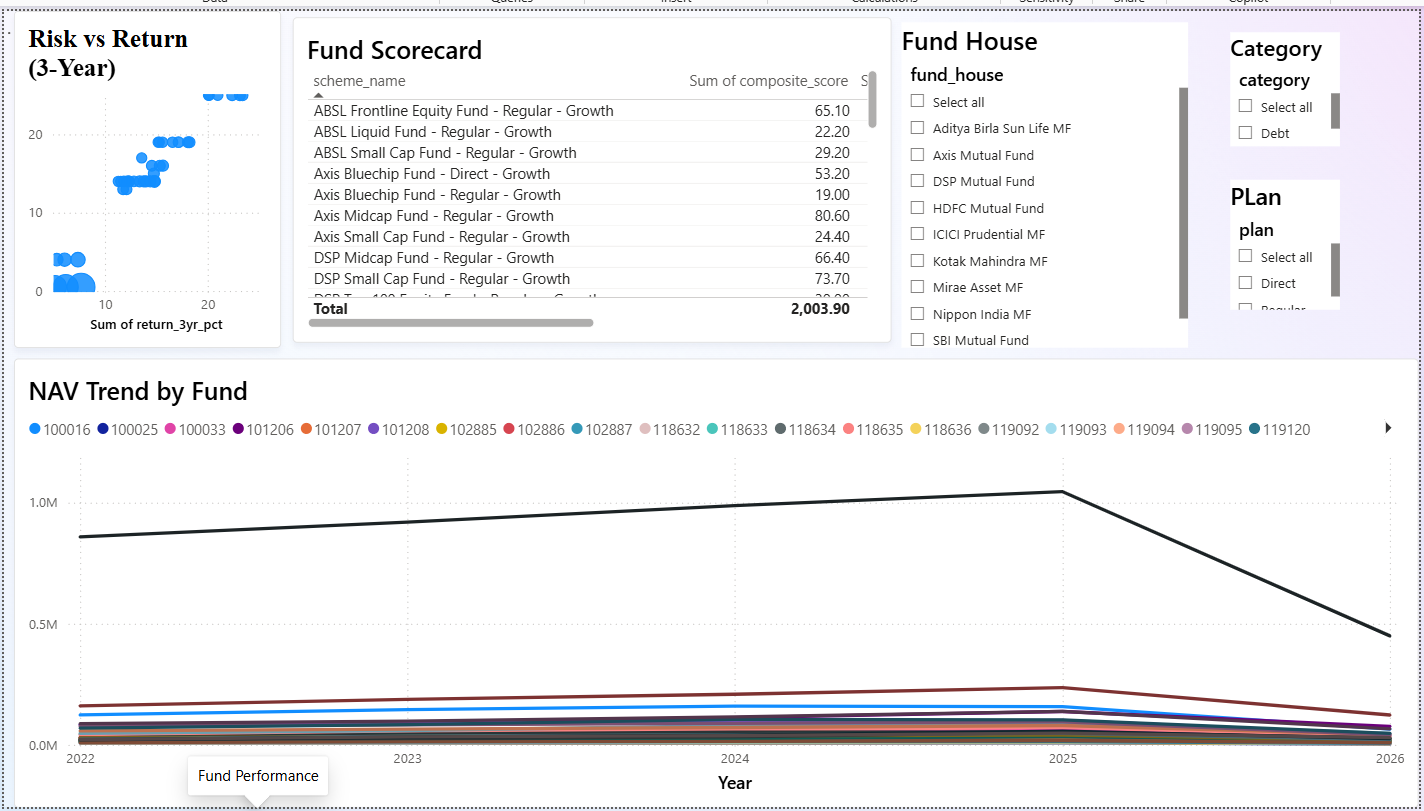

This screenshot's page, from the dashboard's own definition file:
{"tool":"powerbi","page":{"name":"Fund Performance","canvas":[1280,720],"ordinal":1},"visuals":[{"type":"scatterChart","title":"Risk vs Return (3-Year)","fields":{"X":["Sum(clean_schema_performance.return_3yr_pct)"],"Y":["Sum(clean_schema_performance.std_dev_ann_pct)"],"Category":["clean_schema_performance.amfi_code"],"Size":["Sum(clean_schema_performance.sharpe_ratio)"]},"box":[9.3,0,241.9,304.7],"z":0},{"type":"tableEx","title":"Fund Scorecard","fields":{"Values":["fund_scorecard.scheme_name","Sum(fund_scorecard.composite_score)","Sum(fund_scorecard.sharpe_ratio)","Sum(fund_scorecard.cagr_3yr)","Sum(fund_scorecard.alpha)","Sum(fund_scorecard.max_drawdown_pct)"]},"box":[261.6,5.8,541.9,294.2],"z":1000},{"type":"lineChart","title":"NAV Trend by Fund","fields":{"Category":["clean_nav.date.Variation.Date Hierarchy.Year","clean_nav.date.Variation.Date Hierarchy.Quarter","clean_nav.date.Variation.Date Hierarchy.Month","clean_nav.date.Variation.Date Hierarchy.Day"],"Y":["Sum(clean_nav.nav)"],"Series":["clean_nav.amfi_code"]},"box":[9.6,314.2,1270.7,406.2],"z":2000},{"type":"slicer","title":"Fund House","fields":{"Values":["clean_fund_master.fund_house"]},"box":[811.6,10.5,259.3,294.2],"z":3000},{"type":"slicer","title":"Category","fields":{"Values":["clean_fund_master.category"]},"box":[1109.3,19.8,98.8,103.5],"z":4000},{"type":"slicer","title":"PLan","fields":{"Values":["clean_fund_master.plan"]},"box":[1109.3,152.3,98.8,117.4],"z":5000},{"type":"actionButton","box":[0,0,9.3,39.5],"z":6000}]}

Visuals, with their boxes on the page's 1280x720 design canvas (x1, y1, x2, y2). These are canvas units, not pixel positions in the 1424x811 screenshot, which may show the page scaled, cropped or inside an application window:
"Risk vs Return (3-Year)" scatterChart: rect(9, 0, 251, 305)
"Fund Scorecard" tableEx: rect(262, 6, 804, 300)
"NAV Trend by Fund" lineChart: rect(10, 314, 1280, 720)
"Fund House" slicer: rect(812, 10, 1071, 305)
"Category" slicer: rect(1109, 20, 1208, 123)
"PLan" slicer: rect(1109, 152, 1208, 270)
actionButton: rect(0, 0, 9, 40)
